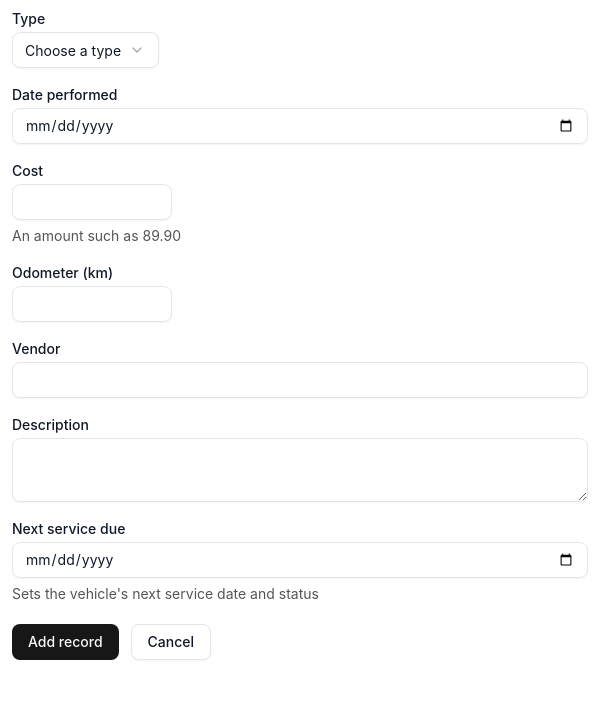
Scenario: MaintenanceForm › shows field errors with aria wiring and keeps echoed values
The image size is (605, 703).
Step 1. Type "abc" into the field labelled "Cost" → point(92, 202), box [12,184,172,220]
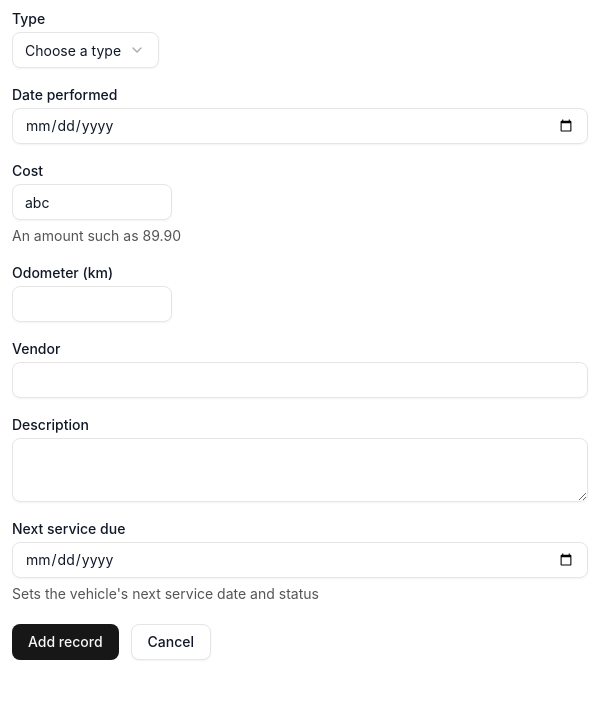
Step 2. Submit the form
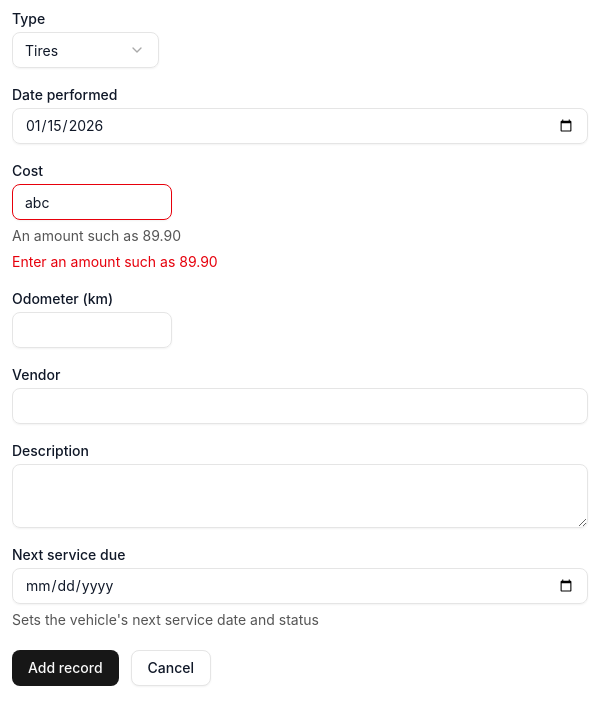
Check: the dropdown labelled "Type" shows "Tires", box [12,32,159,68]
